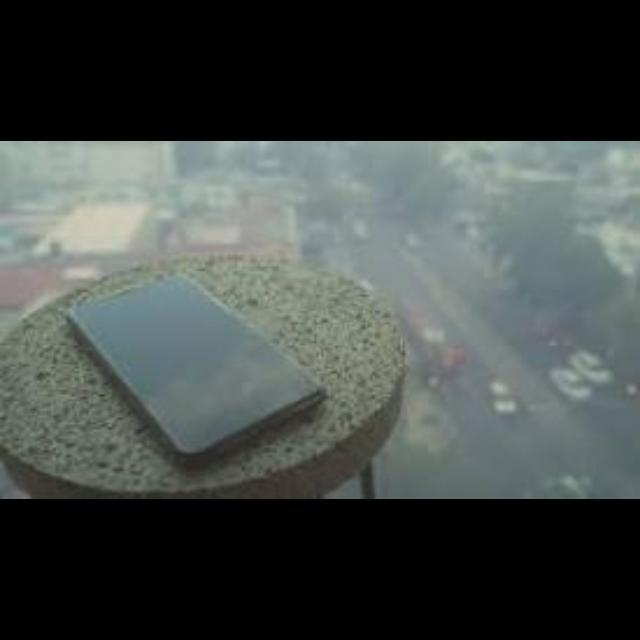Phone: (69, 272, 327, 466)
